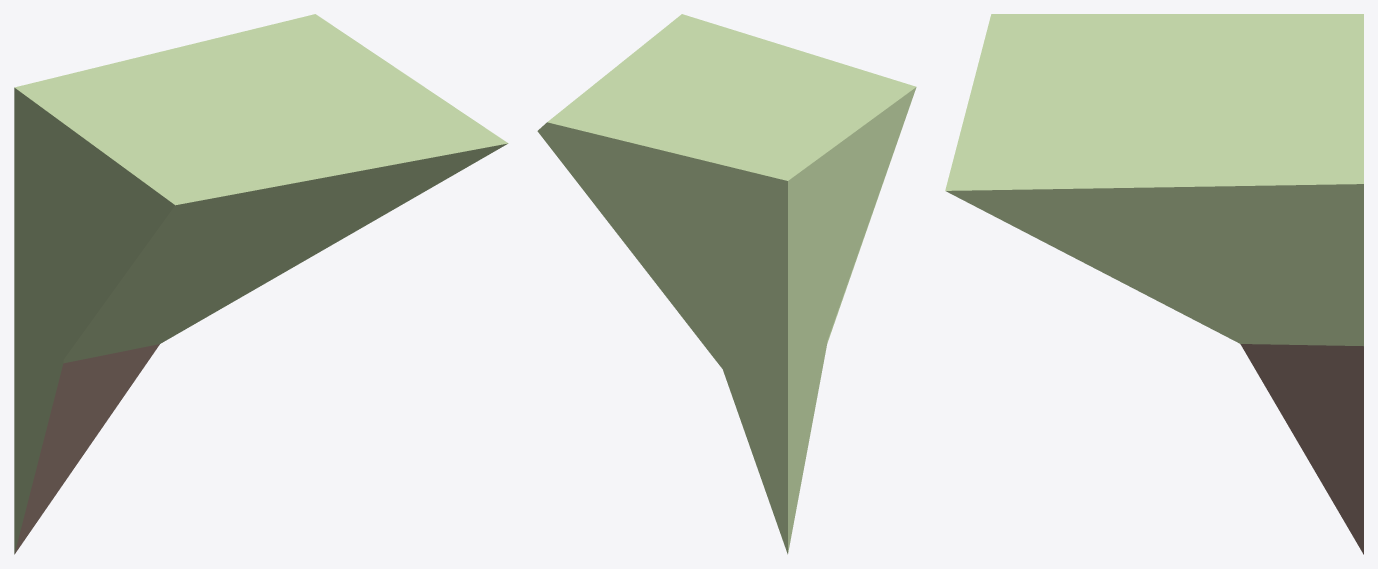
Rendered from chunk_1_-2.glb.
The picture shows the model from 3 angles, left to right: view 1: azimuth 30°, elevation 25°; view 2: azimuth 150°, elevation 25°; view 3: azimuth 270°, elevation 25°; orthographic projection. The views are drawn at different scales.
Parts seen in each view (by area): view 1: chunk_1_-2_0; view 2: chunk_1_-2_0; view 3: chunk_1_-2_0.
Boxes of the visible parts, <box> form: chunk_1_-2_0: <box>14,14,508,554</box>; chunk_1_-2_0: <box>537,14,916,554</box>; chunk_1_-2_0: <box>945,14,1363,554</box>.
Bounding box in the file's own units: 0.9563 × 1.36 × 0.9563.
